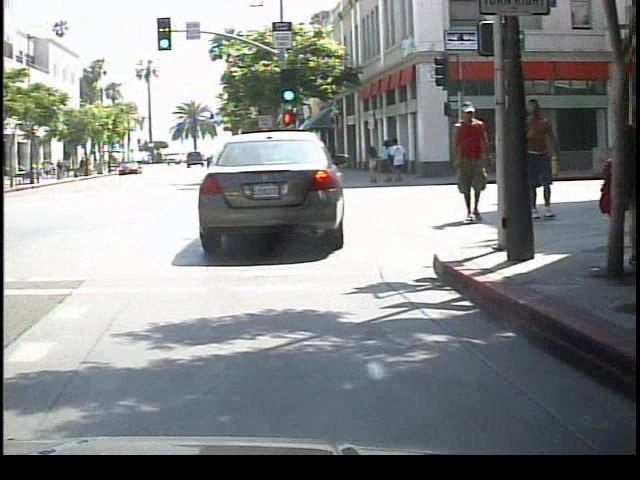person: (510, 96, 564, 227), (445, 101, 490, 223)
